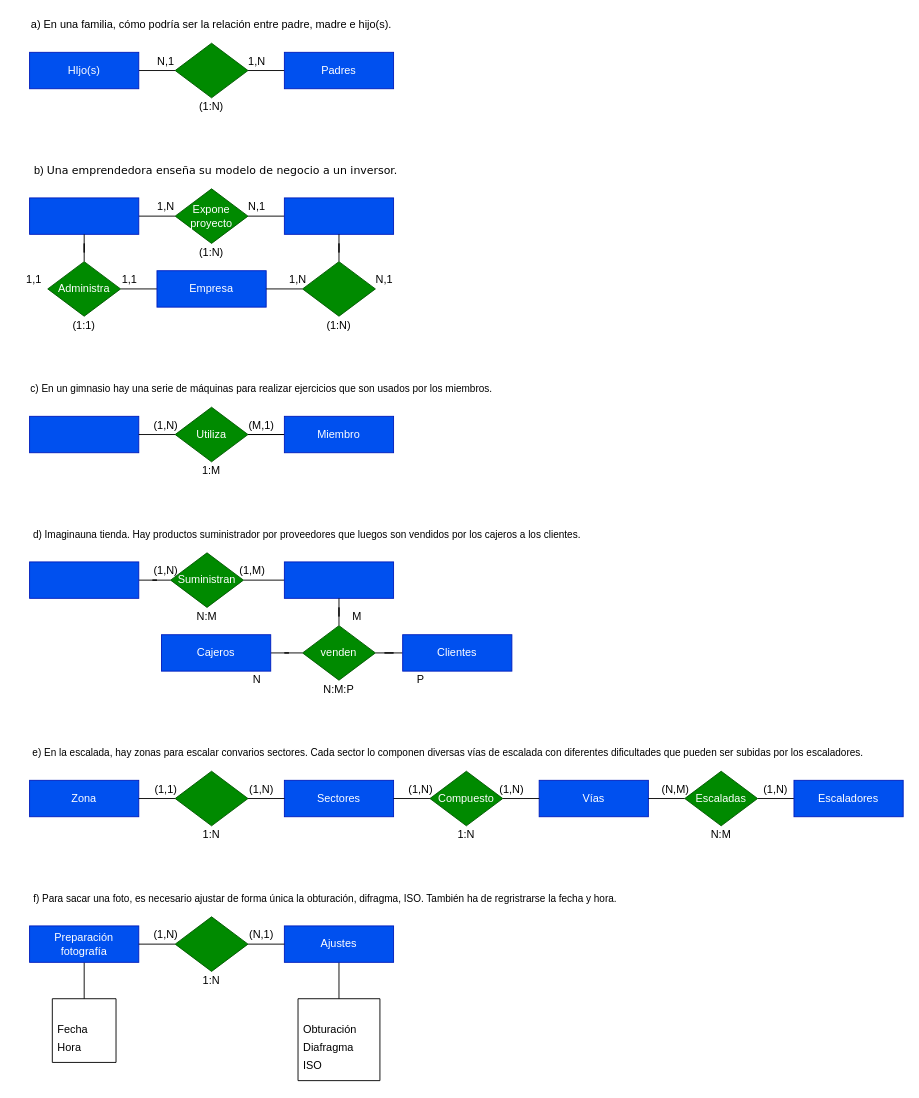
Image size: 919x1098. Some labels were removed from this diagram. Each missing label, with the centre of its shape:
Calibrado: point (211, 943)
Desciende de: point (211, 70)
Dividido en: point (211, 798)
Emprendedora: point (84, 215)
inversor: point (338, 215)
Invierte en: point (338, 288)
Máquina: point (84, 434)
Productos: point (338, 579)
Proveedor: point (84, 579)
